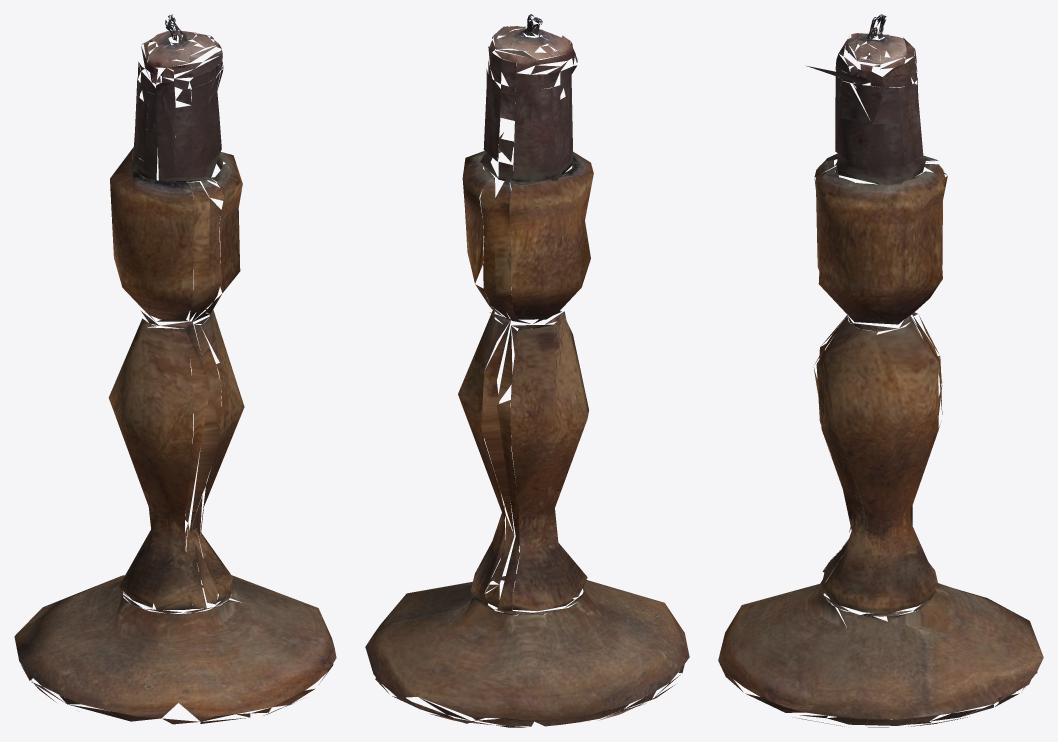
Rendered from candlestick.glb.
The picture shows the model from 3 angles, left to right: view 1: azimuth 30°, elevation 25°; view 2: azimuth 150°, elevation 25°; view 3: azimuth 270°, elevation 25°; orthographic projection.
Visible parts, largest first — view 1: wooden_candlestick; view 2: wooden_candlestick; view 3: wooden_candlestick.
Part boxes in pixels (x1,y1,x2,y2): wooden_candlestick: (14, 14, 336, 724); wooden_candlestick: (365, 14, 689, 727); wooden_candlestick: (718, 14, 1043, 727).
Size of the model in its own units: 0.0979 by 0.2198 by 0.1002.
1 material, 1 textured.
